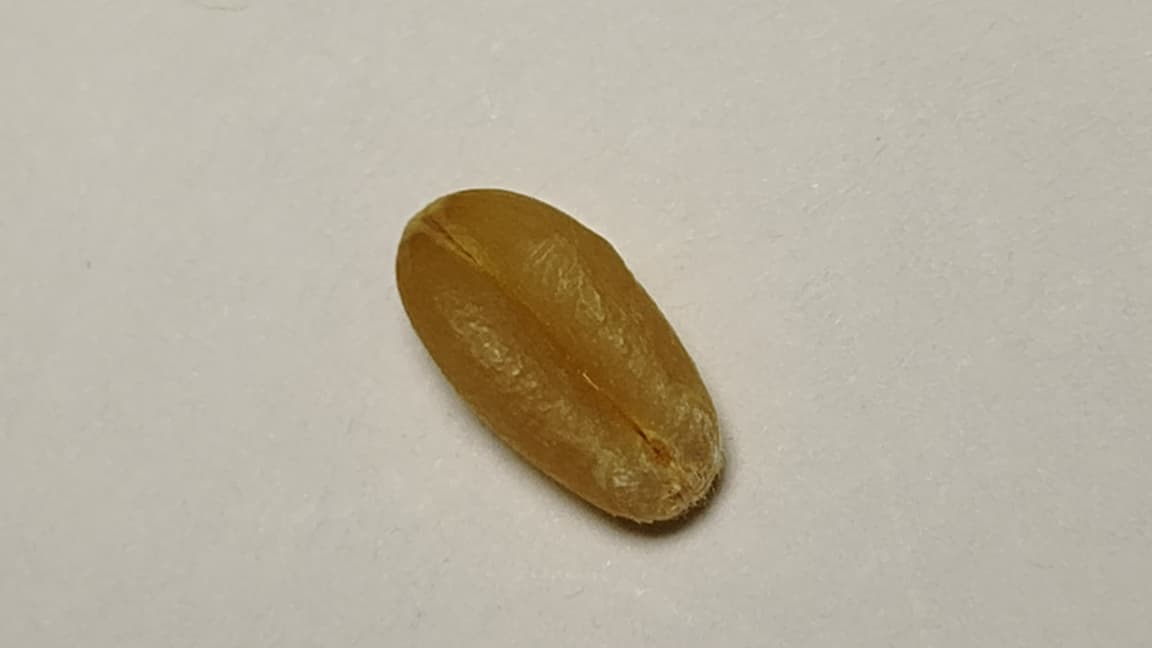healthy: (397, 189, 723, 520)
